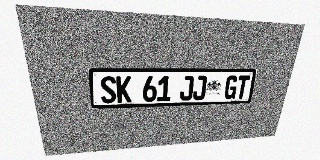1: (157, 76, 171, 101)
6: (143, 76, 157, 102)
G: (223, 76, 239, 99)
J: (179, 76, 194, 101), (192, 76, 207, 100)
K: (116, 76, 132, 103)
S: (100, 76, 117, 103)
T: (235, 76, 250, 99)
